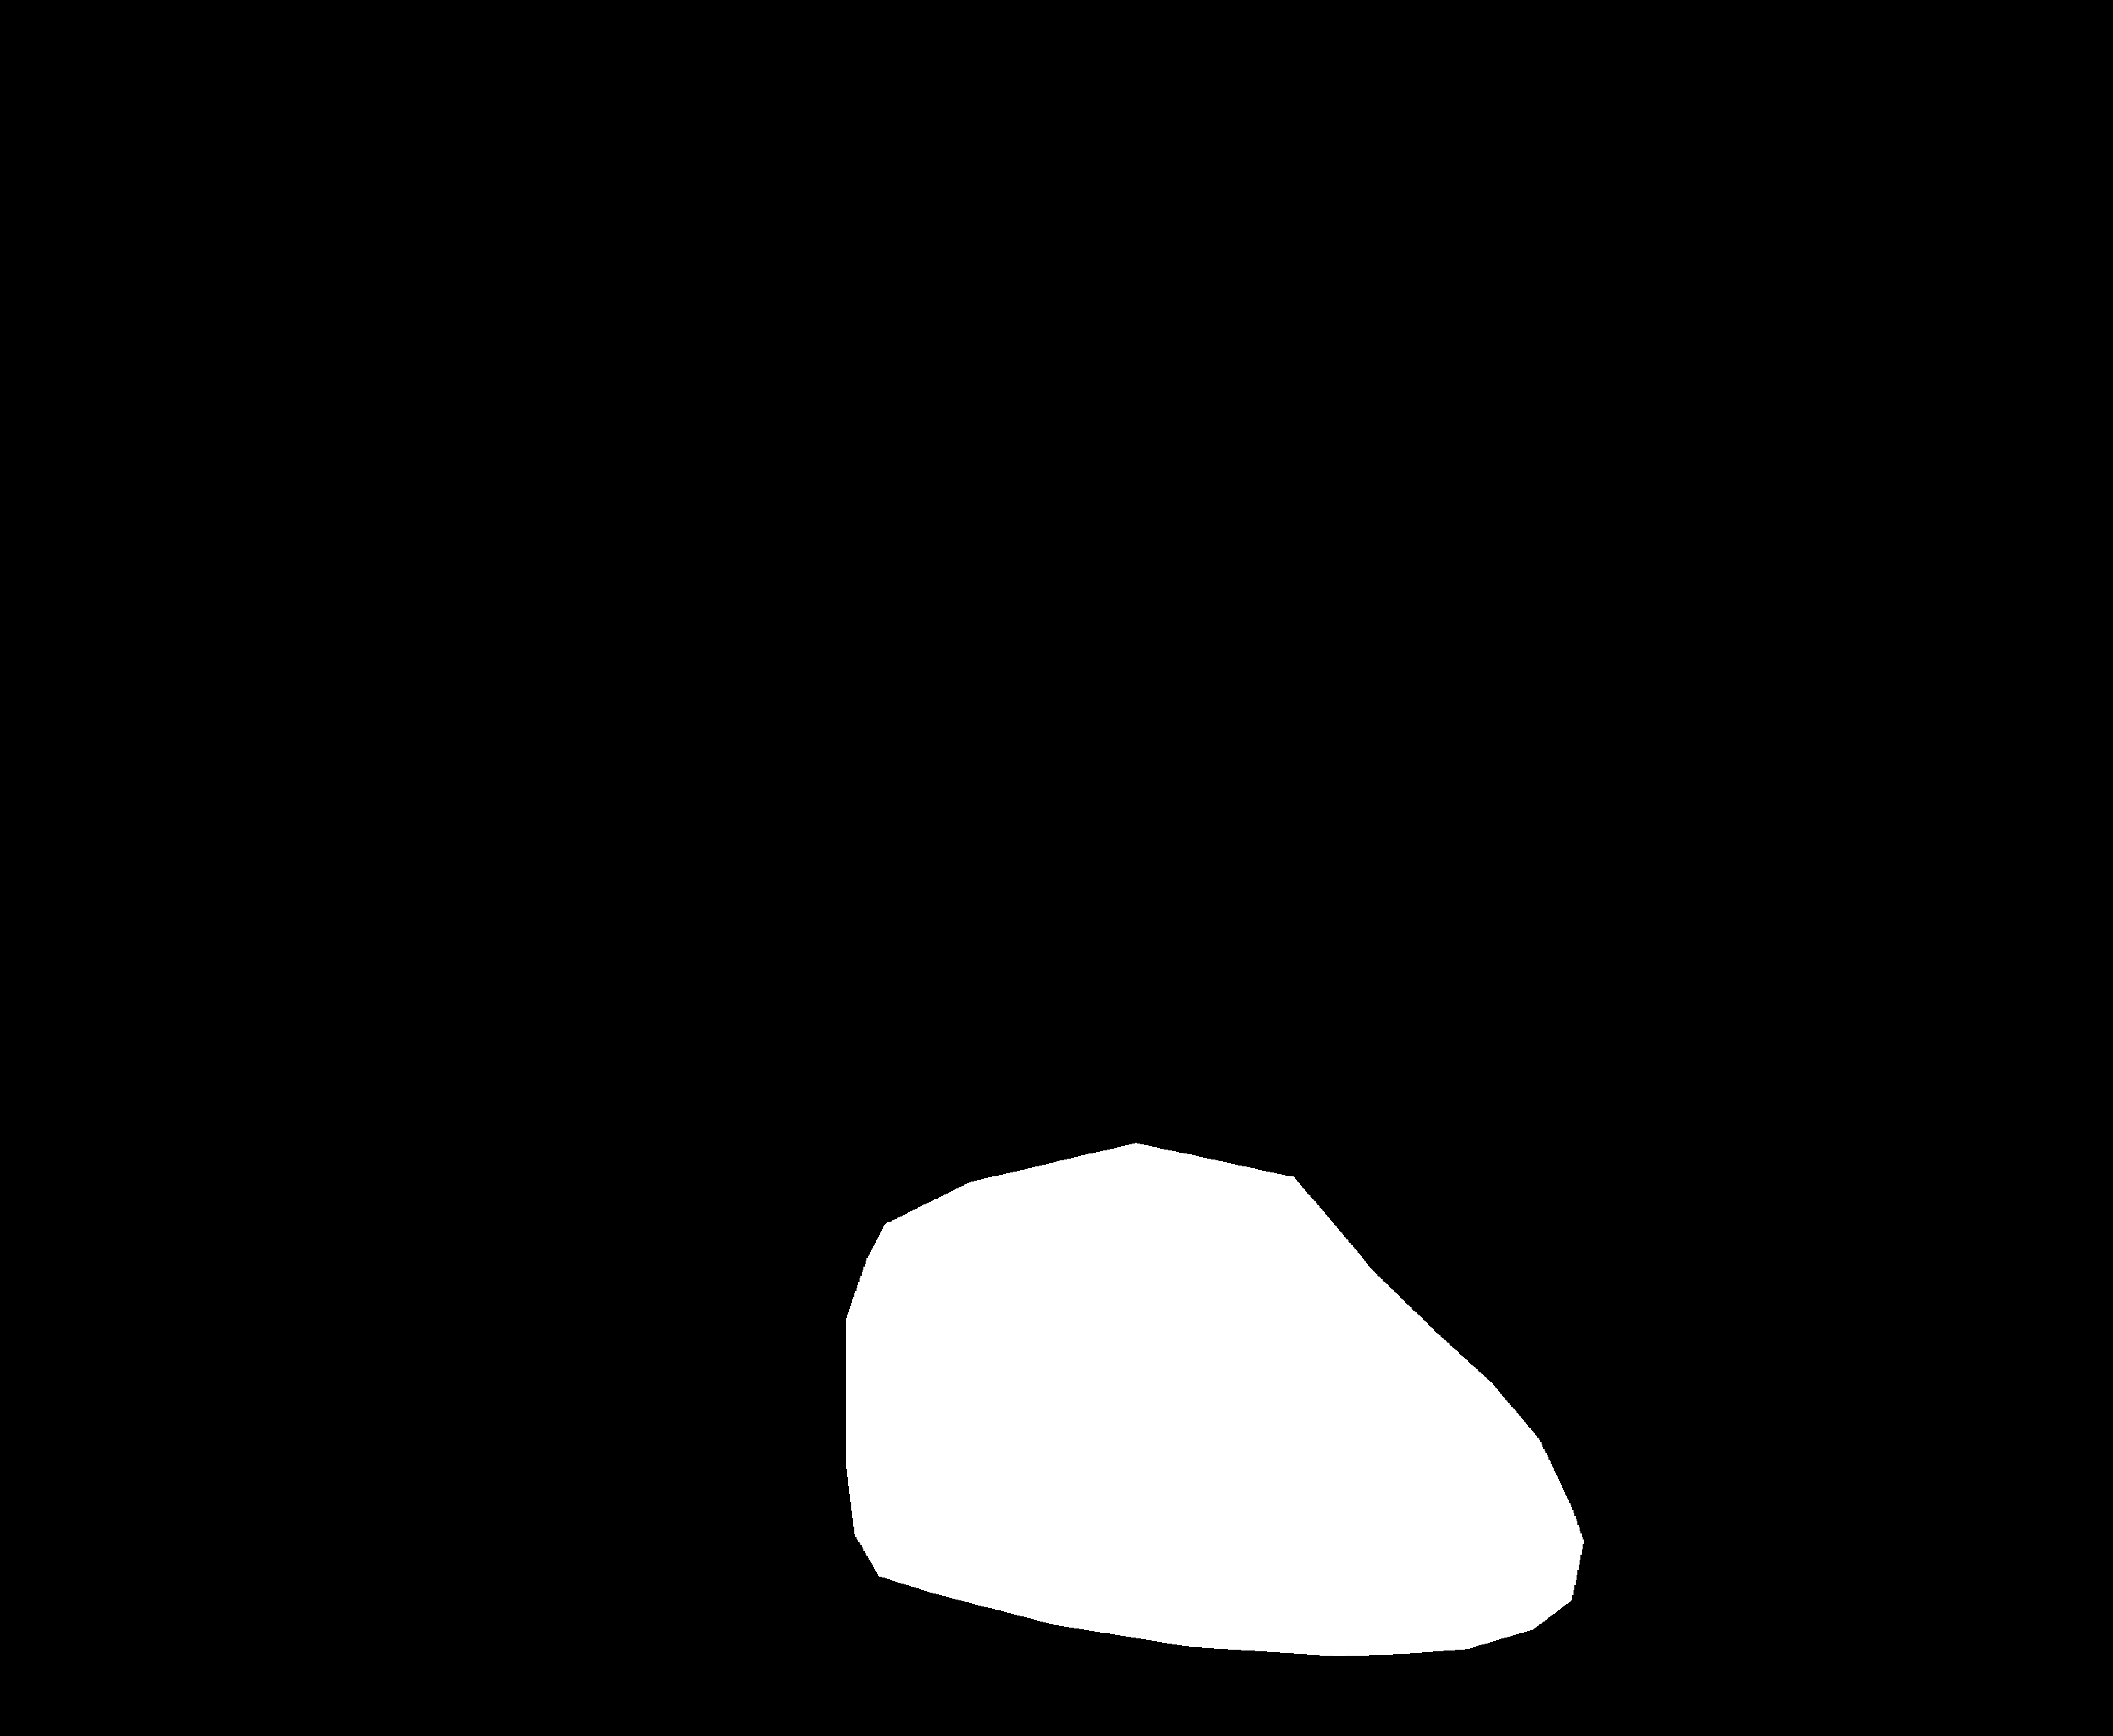heart: (835, 1187, 1579, 1654)
left_lung: (139, 326, 951, 1734)
right_lung: (1079, 325, 1934, 1736)
